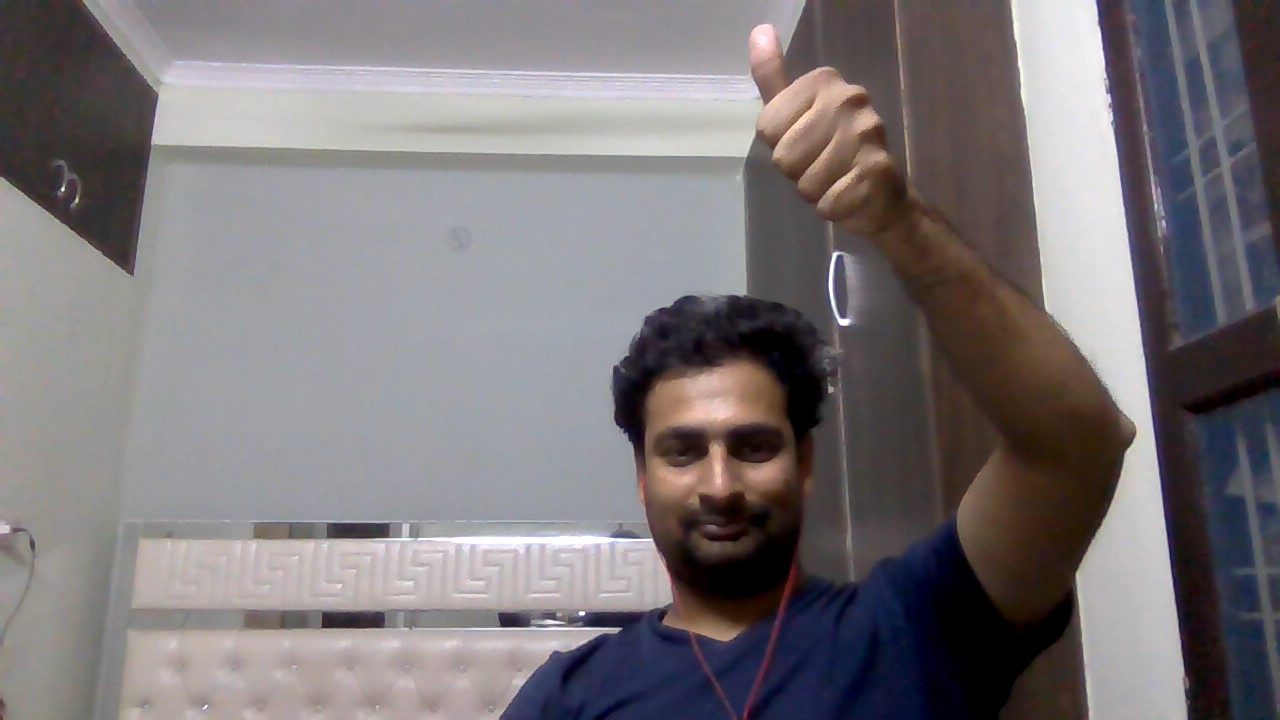Save: (736, 14, 914, 251)
